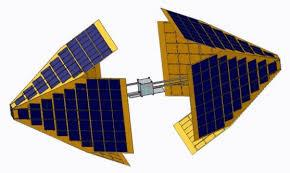body: (136, 74, 157, 101)
solar: (7, 76, 136, 156), (10, 17, 120, 108), (189, 50, 280, 139), (159, 5, 288, 60)
